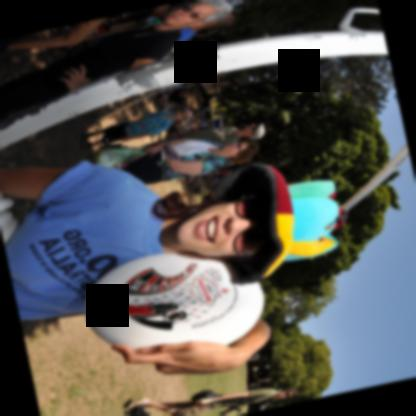handbag: (90, 143, 144, 169), (190, 389, 220, 401)
